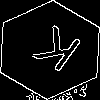K: (25, 25, 85, 81)
